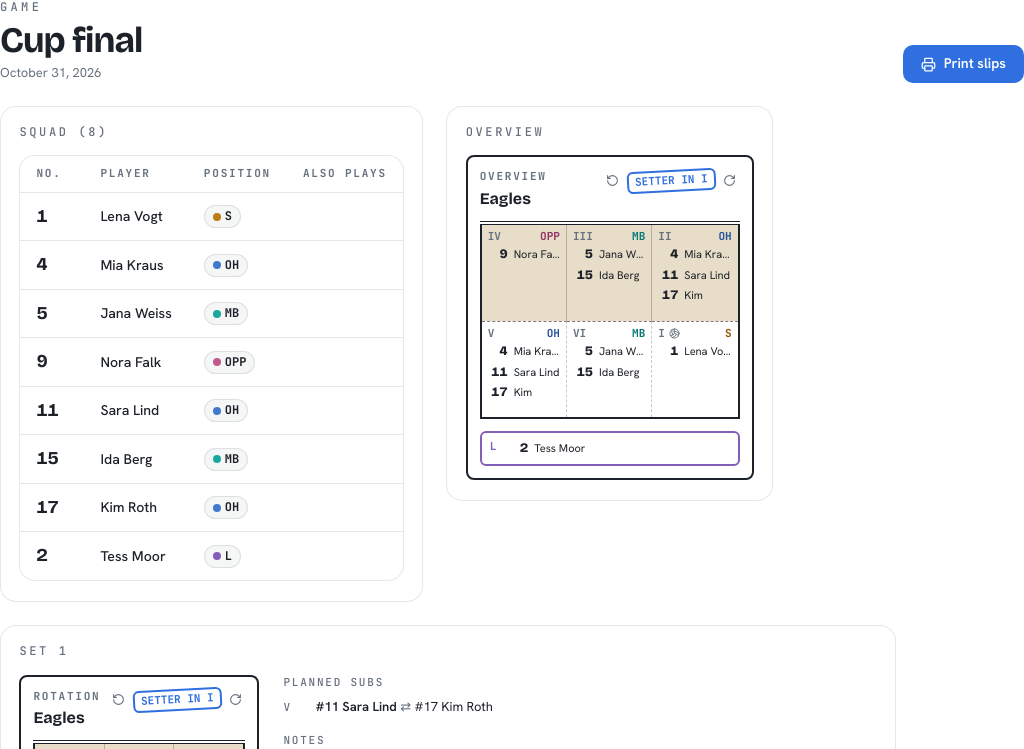
a viewer reads each rotation as its slip and may rotate it, without editing
Click the button named "Rotate back (I → II)" next to "Rotation": (119, 700) [109,689,129,711]
(page scrolled)
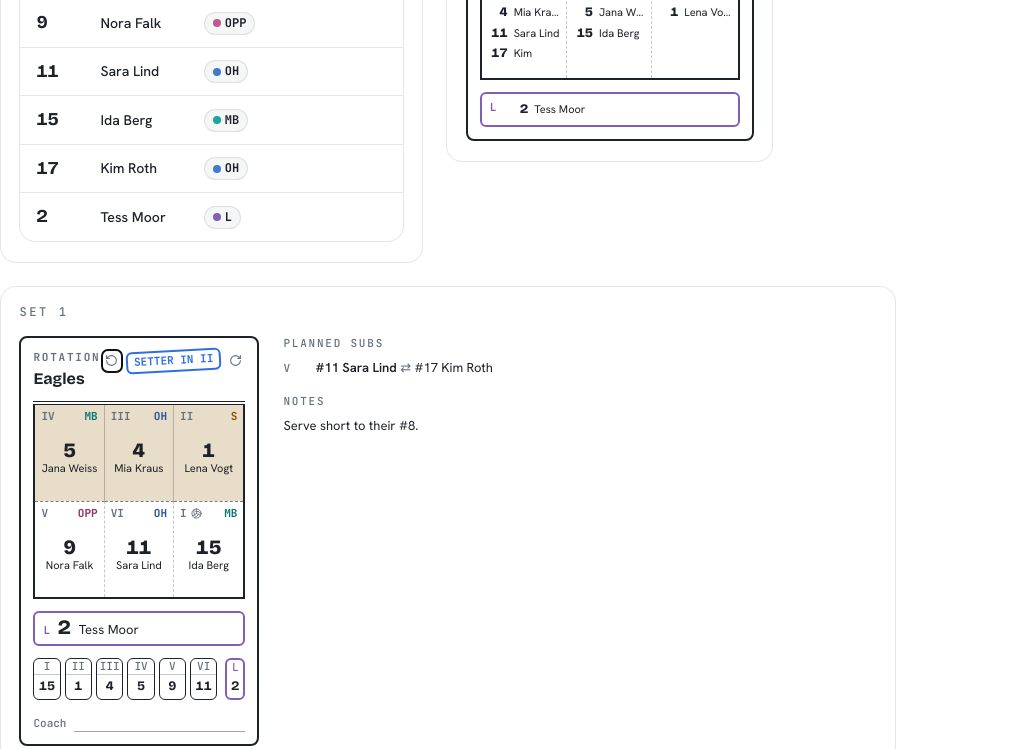
Now the element named "Set 1, Setter in II" is shown, box [19,336,259,746]
